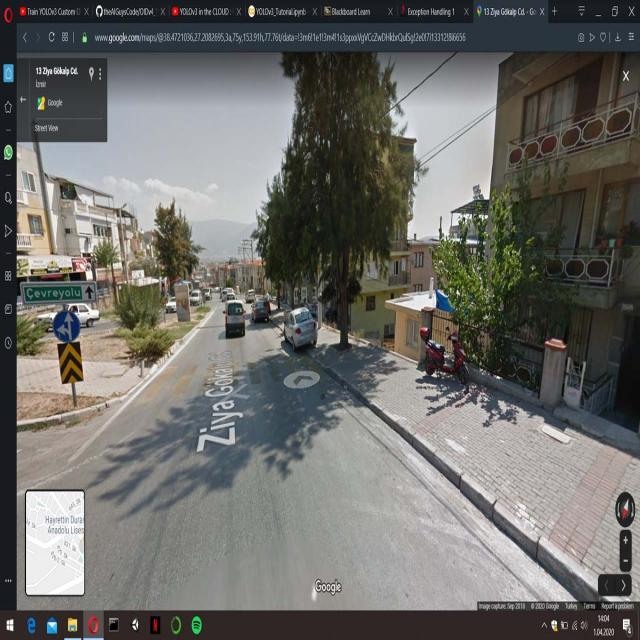ilerisol: (54, 311, 80, 343)
